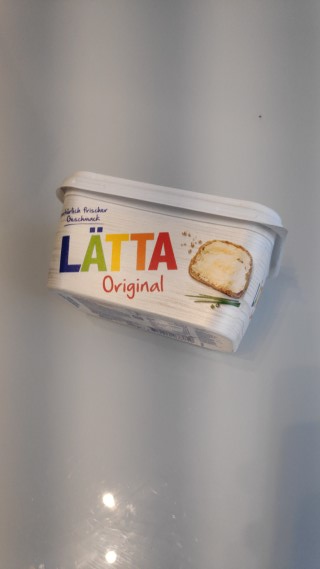laetta: (44, 169, 289, 354)
